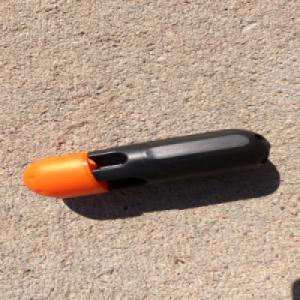PlasticPart: (19, 130, 271, 201)
